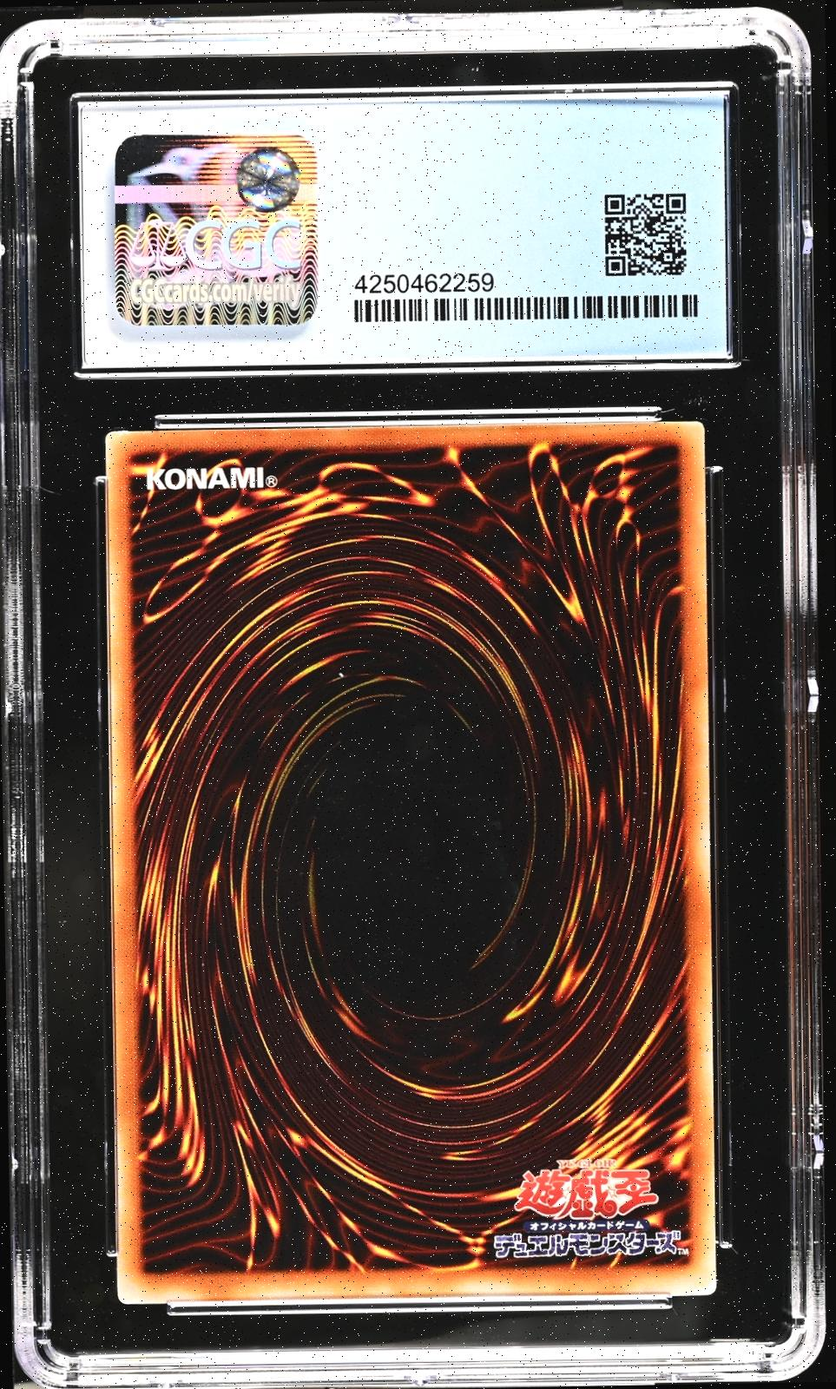card-2UtV: (104, 420, 716, 1305)
